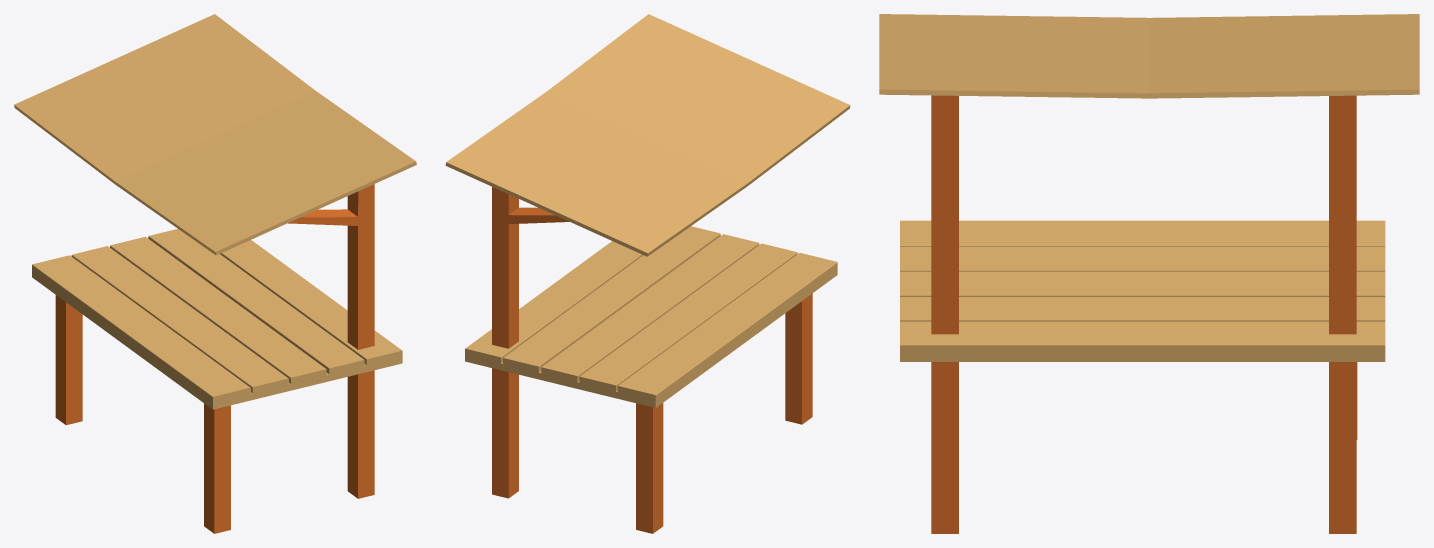
File: Market.fbx
The picture shows the model from 3 angles, left to right: view 1: azimuth 30°, elevation 25°; view 2: azimuth 150°, elevation 25°; view 3: azimuth 270°, elevation 25°; orthographic projection. The views are drawn at different scales.
Visible parts, largest first — view 1: Plane.001, Plane, Cube.001, Cube.004, Cube.006; view 2: Plane.001, Plane, Cube.002, Cube.006, Cube.004; view 3: Plane, Plane.001, Cube.001, Cube.002.
Part boxes in pixels (x1,y1,x2,y2): Plane.001: (14,14,416,255); Plane: (32,229,402,409); Cube.001: (288,184,374,498); Cube.004: (204,403,230,533); Cube.006: (55,295,82,425); Plane.001: (445,14,850,256); Plane: (465,226,837,407); Cube.002: (492,187,569,498); Cube.006: (636,403,663,533); Cube.004: (785,293,812,424); Plane: (900,220,1385,361); Plane.001: (879,14,1419,98); Cube.001: (931,95,958,533); Cube.002: (1329,95,1356,533).
Bounding box in the file's own units: 309 × 502 × 536.
